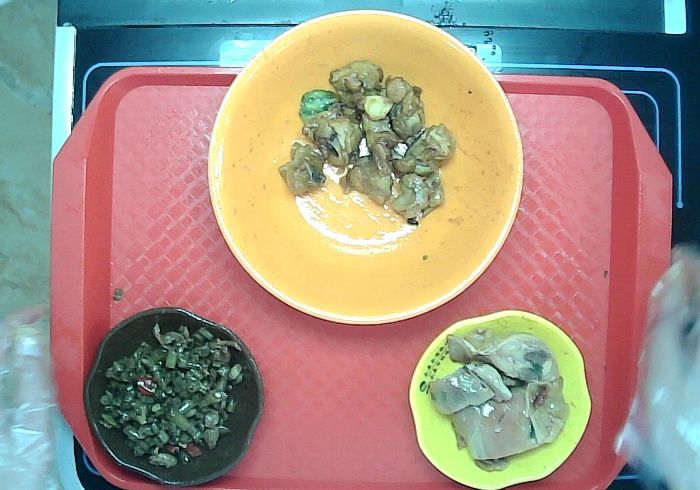YKMZ-Huang_Se_Ao_Bian_Wan: (401, 306, 596, 490)
YKMZ-Ju_Se_Tang_Wan: (197, 5, 529, 338)
YKMZ-Ka_Fei_Ao_Bian_Wan: (82, 300, 269, 484)
